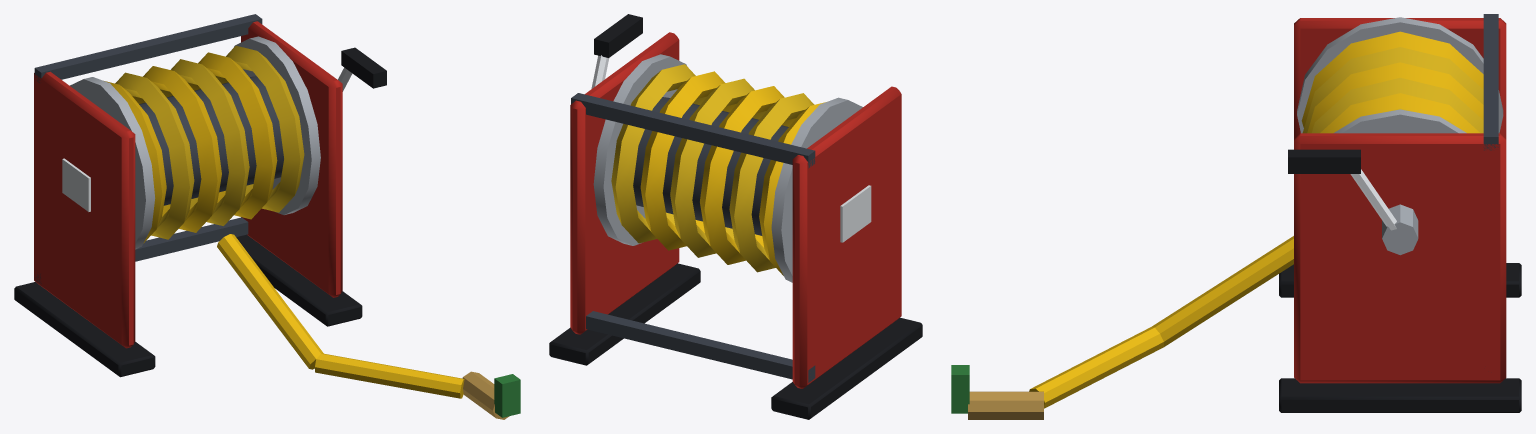
File: hangartool_fuel_hose_reel.glb
The picture shows the model from 3 angles, left to right: view 1: azimuth 30°, elevation 25°; view 2: azimuth 150°, elevation 25°; view 3: azimuth 270°, elevation 25°; orthographic projection. The views are drawn at different scales.
Parts seen in each view (by area): view 1: hangartool_fuel_hose_reel; view 2: hangartool_fuel_hose_reel; view 3: hangartool_fuel_hose_reel.
Part boxes in pixels (left/top/right/bottom): hangartool_fuel_hose_reel: left=14, top=14, right=520, bottom=419; hangartool_fuel_hose_reel: left=549, top=14, right=922, bottom=419; hangartool_fuel_hose_reel: left=951, top=14, right=1521, bottom=419.
Bounding box in the file's own units: 1.18 × 1.03 × 1.88.
